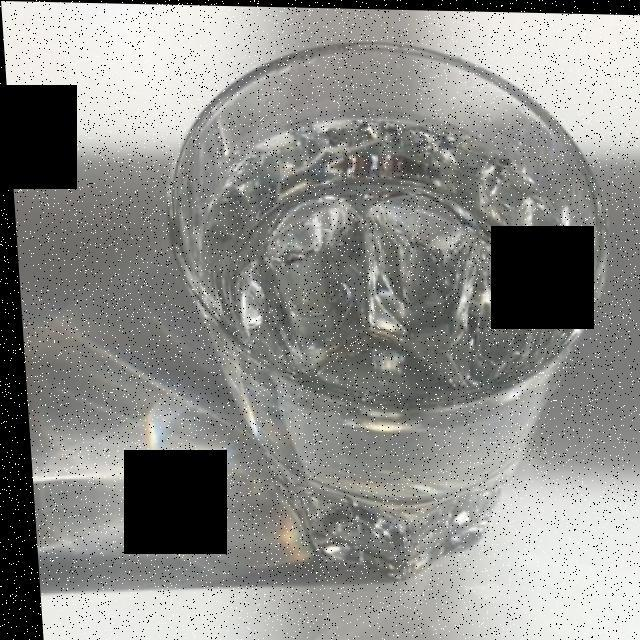water: (213, 125, 568, 399)
